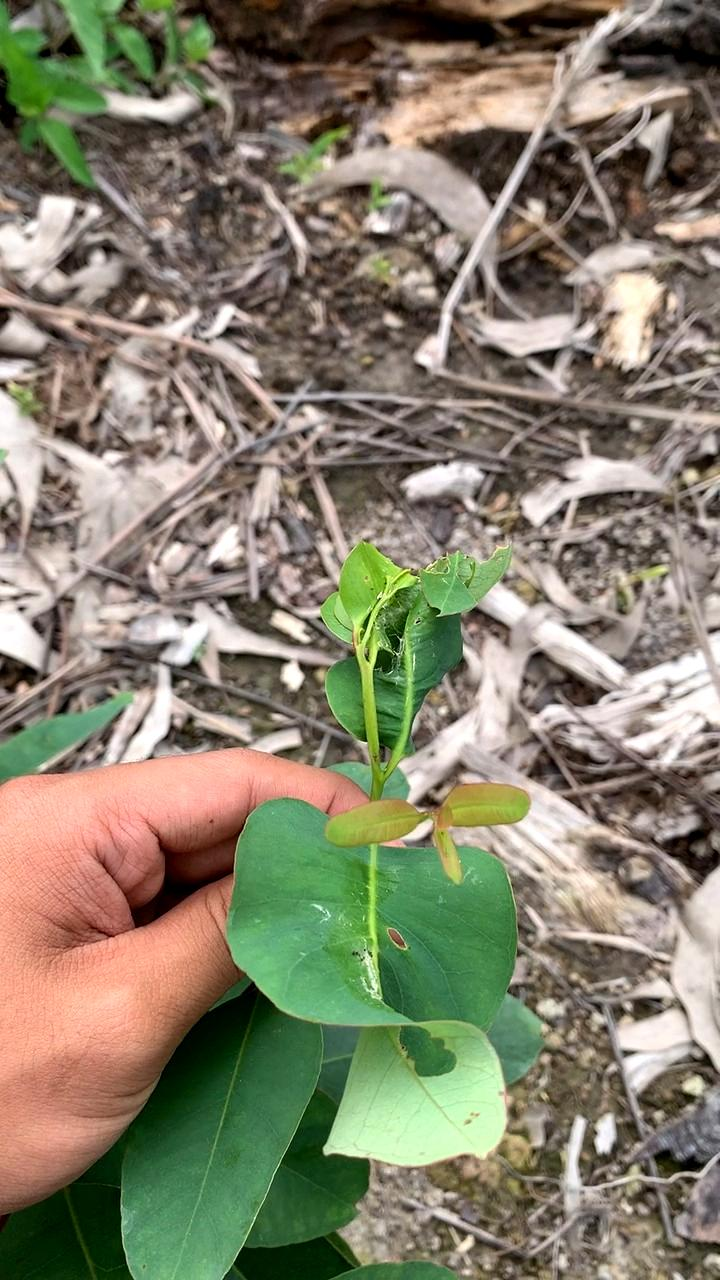Leaf Roller - Leaf: (287, 497, 533, 753)
